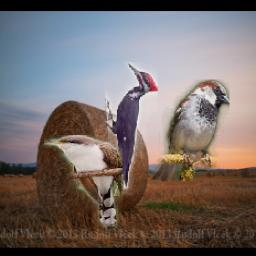Cuckoo: (45, 136, 124, 229)
Sparrow: (152, 79, 231, 181)
Woodpecker: (105, 63, 158, 197)
